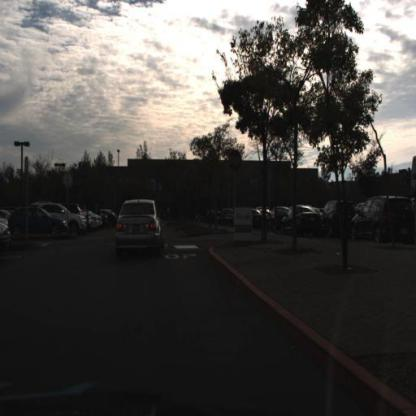car: (345, 193, 416, 261), (349, 190, 416, 243), (114, 197, 166, 263), (14, 204, 69, 240), (7, 205, 71, 234), (281, 202, 323, 239), (46, 203, 89, 237), (318, 200, 355, 238), (2, 213, 25, 257), (67, 210, 89, 233)
